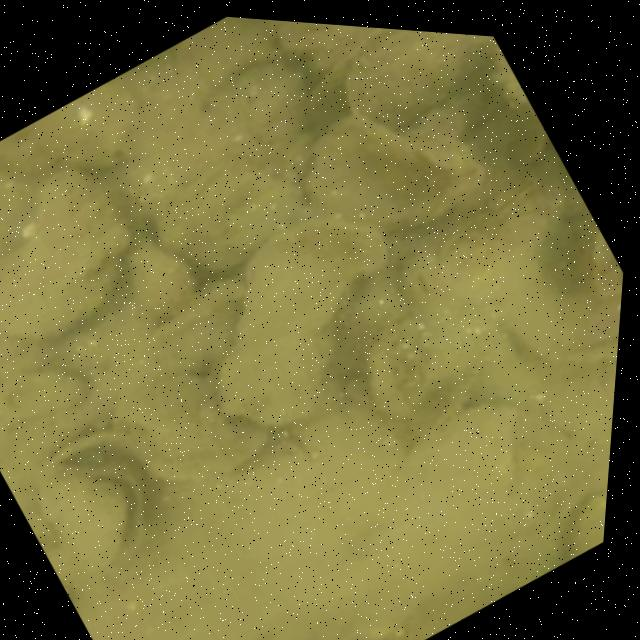Oyster-Indeterminate: (213, 221, 371, 425), (297, 102, 491, 231), (0, 169, 127, 341), (113, 377, 267, 480), (156, 157, 295, 269), (346, 29, 499, 127), (33, 84, 136, 169), (129, 243, 204, 315), (44, 413, 146, 463), (0, 365, 86, 424), (244, 69, 308, 143), (573, 495, 607, 555)
Oyster-Open: (34, 455, 148, 577)
